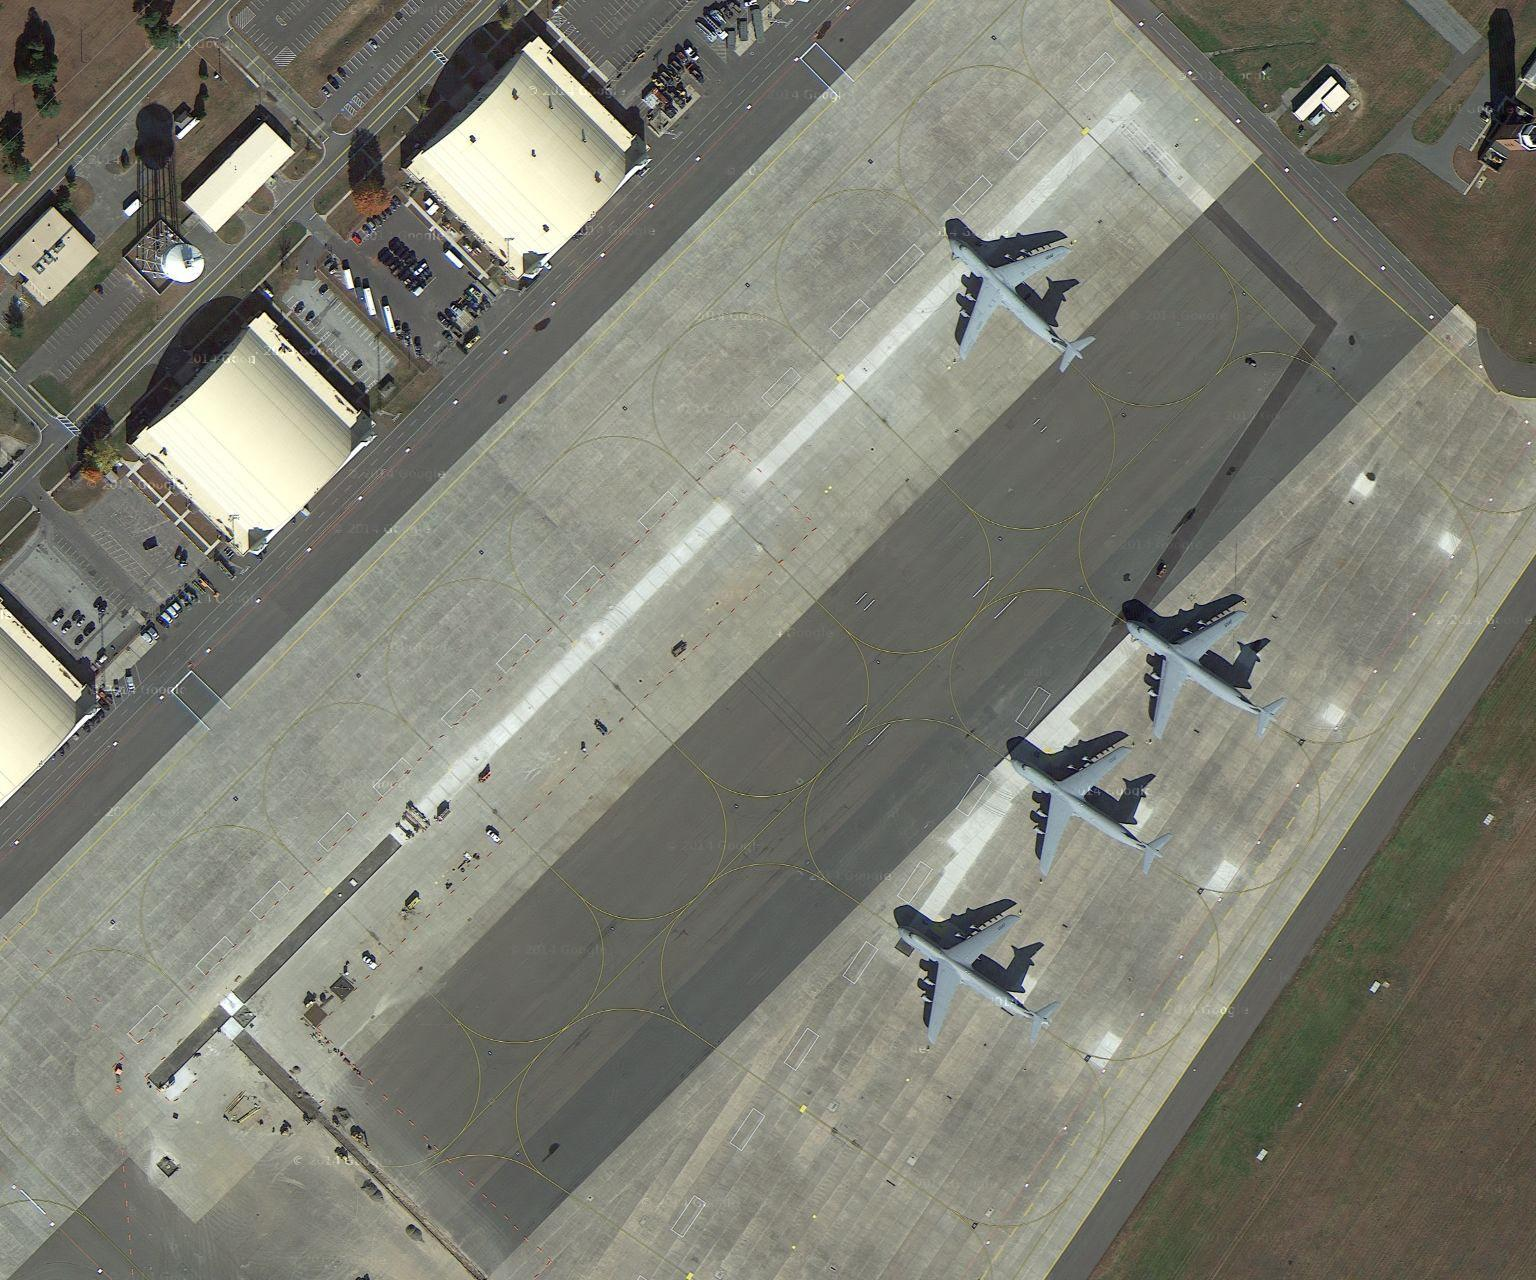KC-135: (1112, 582, 1294, 745), (931, 214, 1096, 380), (884, 902, 1063, 1052), (1000, 735, 1179, 877)
